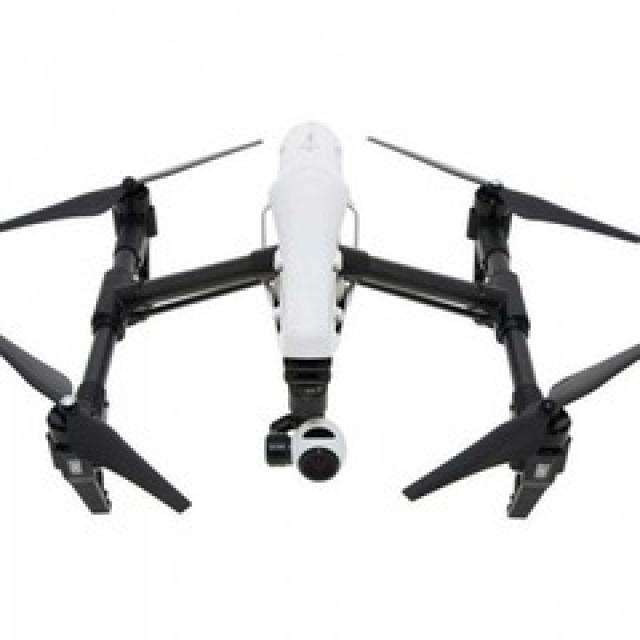drone: (13, 139, 632, 536)
